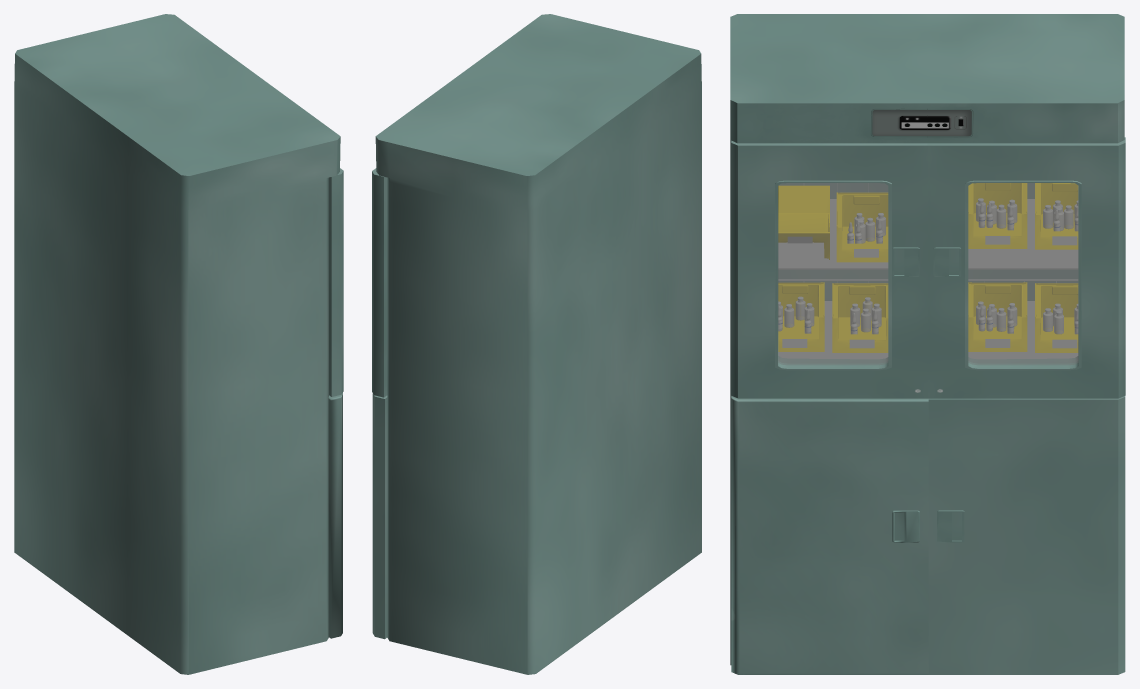
Rendered from Freezer_laboratory_02.fbx.
3 views of the same model, side by side, from view 1: azimuth 30°, elevation 25°; view 2: azimuth 150°, elevation 25°; view 3: azimuth 270°, elevation 25° (orthographic). The views are drawn at different scales.
Parts seen in each view (by area): view 1: freezer_laboratory1, Freezer_door7, Freezer_door4; view 2: freezer_laboratory1, Freezer_door8, Freezer_door5; view 3: freezer_laboratory1, Freezer_door7, Freezer_door8, Freezer_door5, Freezer_door4, mediciene_rack, rack4, rack3, rack6, rack5.
Part boxes in pixels (bbox=[...]): freezer_laboratory1: bbox=[14, 14, 340, 674]; Freezer_door7: bbox=[328, 393, 342, 638]; Freezer_door4: bbox=[329, 168, 343, 396]; freezer_laboratory1: bbox=[375, 14, 701, 674]; Freezer_door8: bbox=[372, 393, 387, 639]; Freezer_door5: bbox=[372, 168, 387, 397]; freezer_laboratory1: bbox=[730, 14, 1124, 665]; Freezer_door7: bbox=[731, 396, 928, 674]; Freezer_door8: bbox=[928, 396, 1125, 674]; Freezer_door5: bbox=[928, 137, 1125, 398]; Freezer_door4: bbox=[731, 140, 928, 398]; mediciene_rack: bbox=[778, 183, 1077, 352]; rack4: bbox=[968, 199, 1077, 269]; rack3: bbox=[778, 199, 887, 269]; rack6: bbox=[968, 279, 1077, 358]; rack5: bbox=[778, 279, 887, 358].
Bounding box in the file's own units: 69.07 × 199 × 125.
12 materials, 6 textured.
